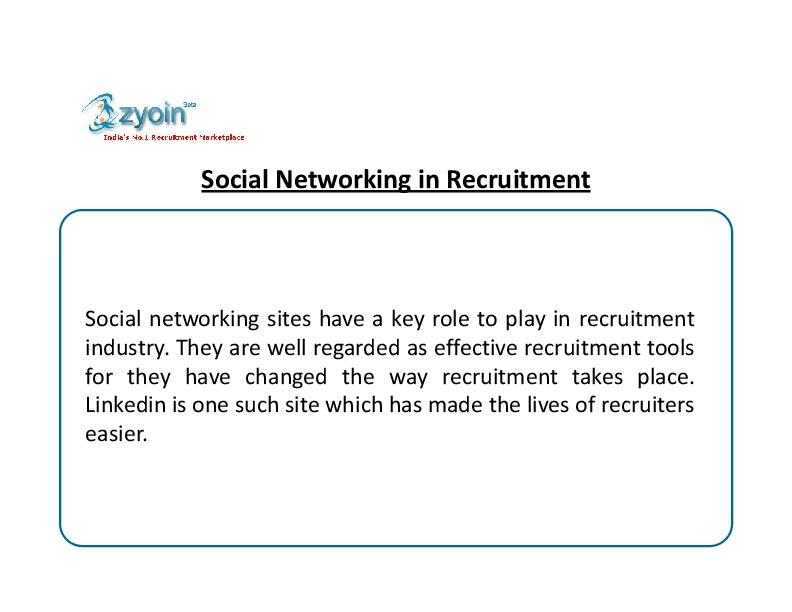paragraph: (55, 202, 755, 565)
title: (193, 157, 603, 204)
